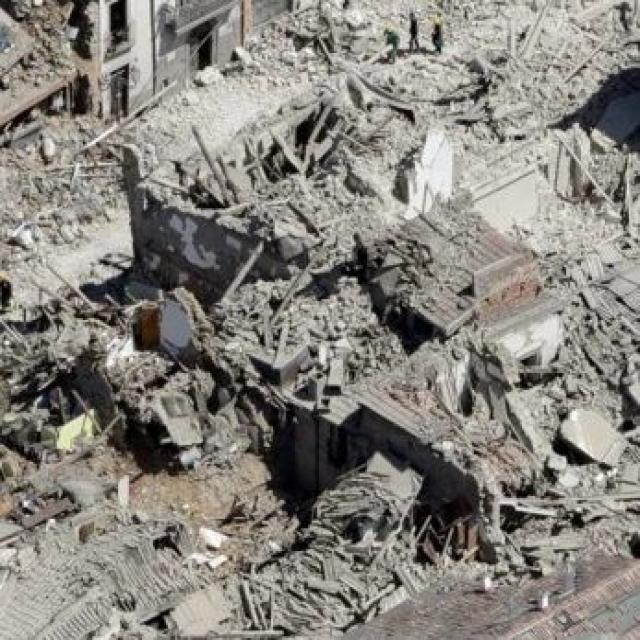collapsed_building: (142, 112, 583, 492)
